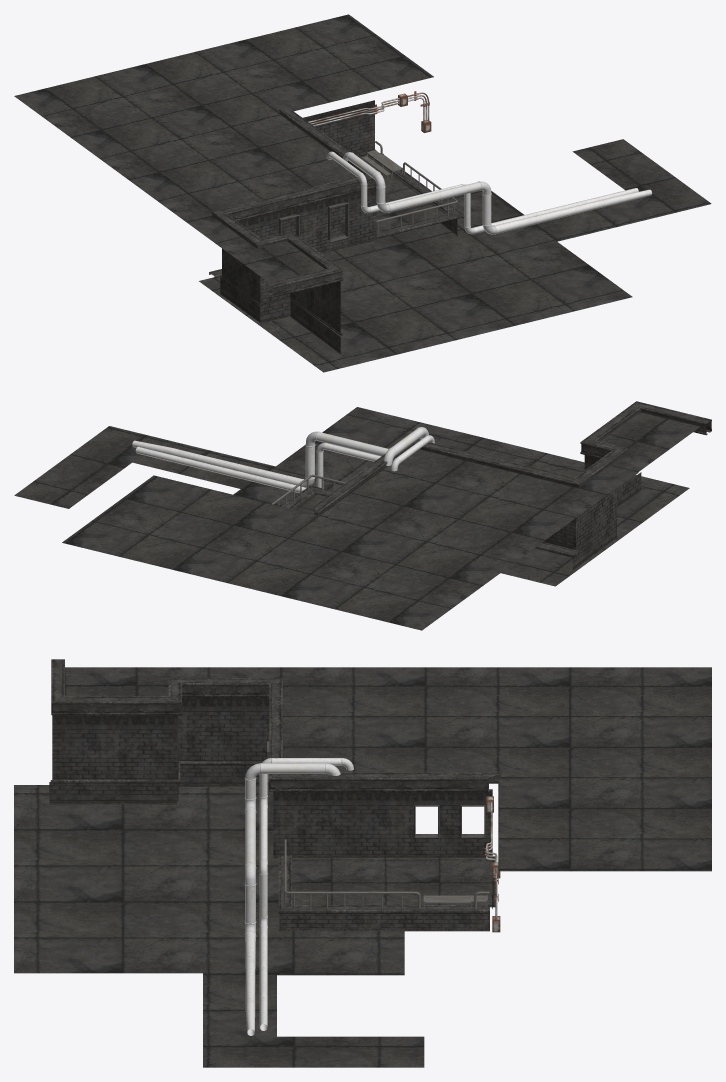
3 views of the same model, one above another, from view 1: azimuth 30°, elevation 25°; view 2: azimuth 150°, elevation 25°; view 3: azimuth 270°, elevation 25° (orthographic). The views are drawn at different scales.
Visible parts, largest first — view 1: LOD_1_Group_0_Sub_4__st1_townGround00_Mat, LOD_1_Group_0_Sub_2__st1_townPolice01_Mat, LOD_1_Group_0_Sub_1__st1_townPolice00_Mat, LOD_1_Group_0_Sub_6__st1_townParts01_Mat, LOD_1_Group_0_Sub_5__st2_police1fRightStairs02; view 2: LOD_1_Group_0_Sub_4__st1_townGround00_Mat, LOD_1_Group_0_Sub_1__st1_townPolice00_Mat, LOD_1_Group_0_Sub_6__st1_townParts01_Mat, LOD_1_Group_0_Sub_2__st1_townPolice01_Mat, LOD_1_Group_0_Sub_5__st2_police1fRightStairs02; view 3: LOD_1_Group_0_Sub_4__st1_townGround00_Mat, LOD_1_Group_0_Sub_2__st1_townPolice01_Mat, LOD_1_Group_0_Sub_1__st1_townPolice00_Mat, LOD_1_Group_0_Sub_6__st1_townParts01_Mat, LOD_1_Group_0_Sub_5__st2_police1fRightStairs02, LOD_1_Group_0_Sub_3__st1_townPoliceparts00_Mat.
Boxes of the visible parts, x1,y1,x2,y2 form: LOD_1_Group_0_Sub_4__st1_townGround00_Mat: (14, 14, 711, 372); LOD_1_Group_0_Sub_2__st1_townPolice01_Mat: (220, 100, 457, 353); LOD_1_Group_0_Sub_1__st1_townPolice00_Mat: (209, 109, 464, 336); LOD_1_Group_0_Sub_6__st1_townParts01_Mat: (308, 91, 652, 234); LOD_1_Group_0_Sub_5__st2_police1fRightStairs02: (361, 141, 457, 233); LOD_1_Group_0_Sub_4__st1_townGround00_Mat: (14, 407, 700, 630); LOD_1_Group_0_Sub_1__st1_townPolice00_Mat: (281, 401, 711, 557); LOD_1_Group_0_Sub_6__st1_townParts01_Mat: (132, 427, 434, 492); LOD_1_Group_0_Sub_2__st1_townPolice01_Mat: (543, 455, 641, 570); LOD_1_Group_0_Sub_5__st2_police1fRightStairs02: (271, 474, 345, 507); LOD_1_Group_0_Sub_4__st1_townGround00_Mat: (14, 667, 711, 1067); LOD_1_Group_0_Sub_2__st1_townPolice01_Mat: (49, 697, 492, 931); LOD_1_Group_0_Sub_1__st1_townPolice00_Mat: (50, 659, 501, 913); LOD_1_Group_0_Sub_6__st1_townParts01_Mat: (244, 758, 500, 1035); LOD_1_Group_0_Sub_5__st2_police1fRightStairs02: (284, 839, 489, 908); LOD_1_Group_0_Sub_3__st1_townPoliceparts00_Mat: (266, 740, 485, 838).
Size of the model in its own units: 32.22 by 5.64 by 31.21.
